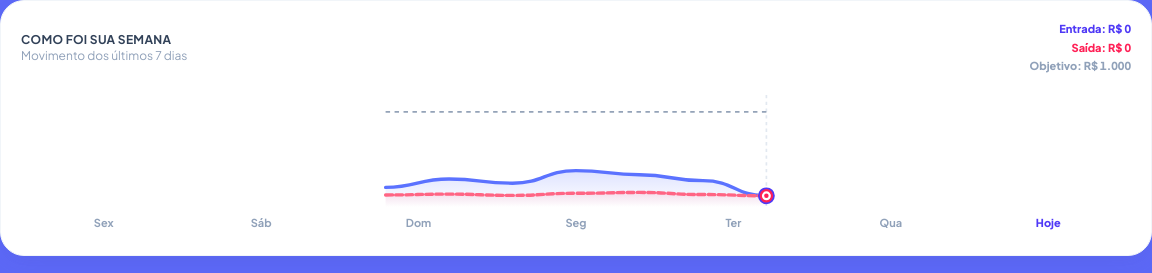
Test: WeeklyChart › shows the selected day's amounts when a day label is pressed
The width and height of the screenshot is (1152, 273).
Click the button with aria-label "terça". click: (733, 223)
box: [655,214,812,231]
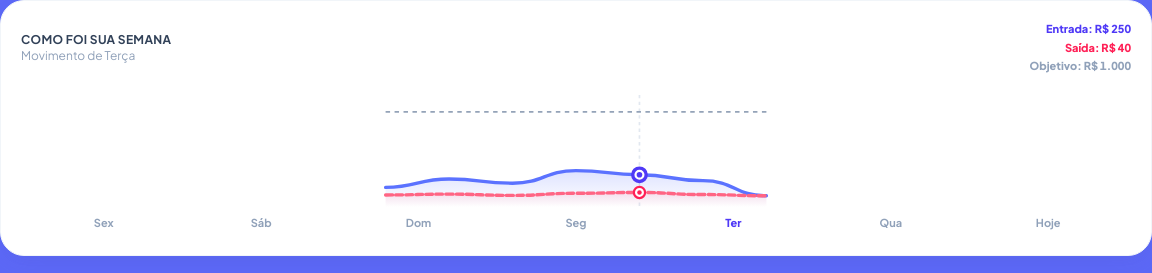
expect the text "Movimento de Terça" is shown: met, box [21,48,135,63]
expect the text "Entrada: R$ 250" is shown: met, box [1046,21,1131,38]
expect the text "Saída: R$ 40" is shown: met, box [1065,40,1131,56]
